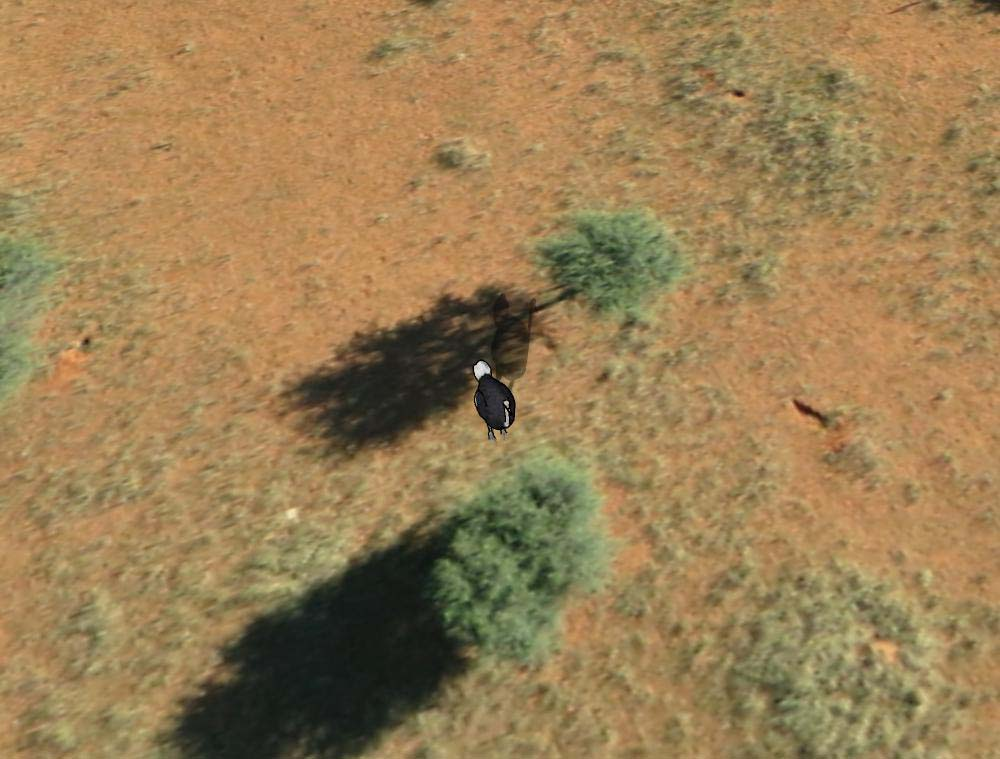springbok: (461, 359, 524, 439)
